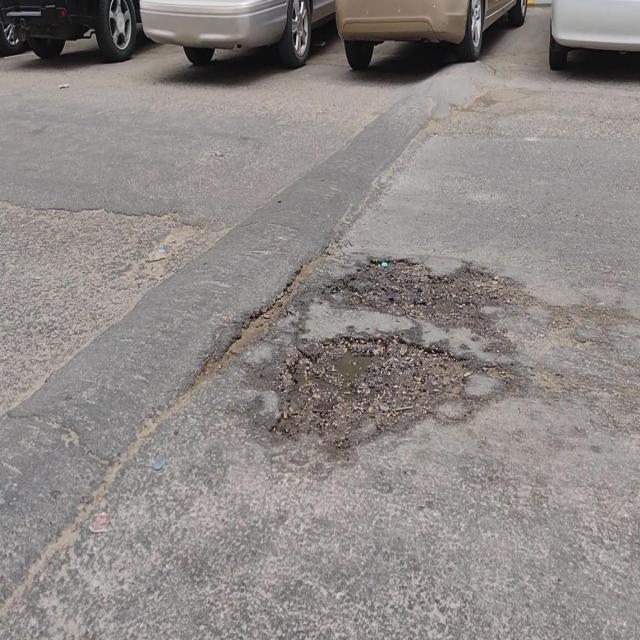Potholes: (270, 332, 471, 444), (329, 254, 513, 351)
